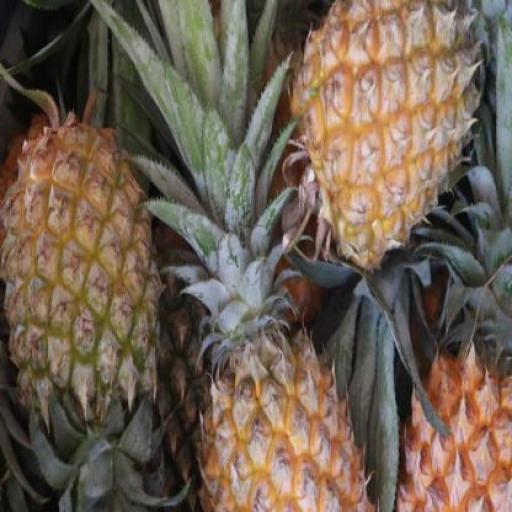------------------------------: (0, 114, 160, 414)
Pineapple - v8 v1: (286, 0, 494, 272), (190, 335, 368, 512), (391, 346, 512, 512)
